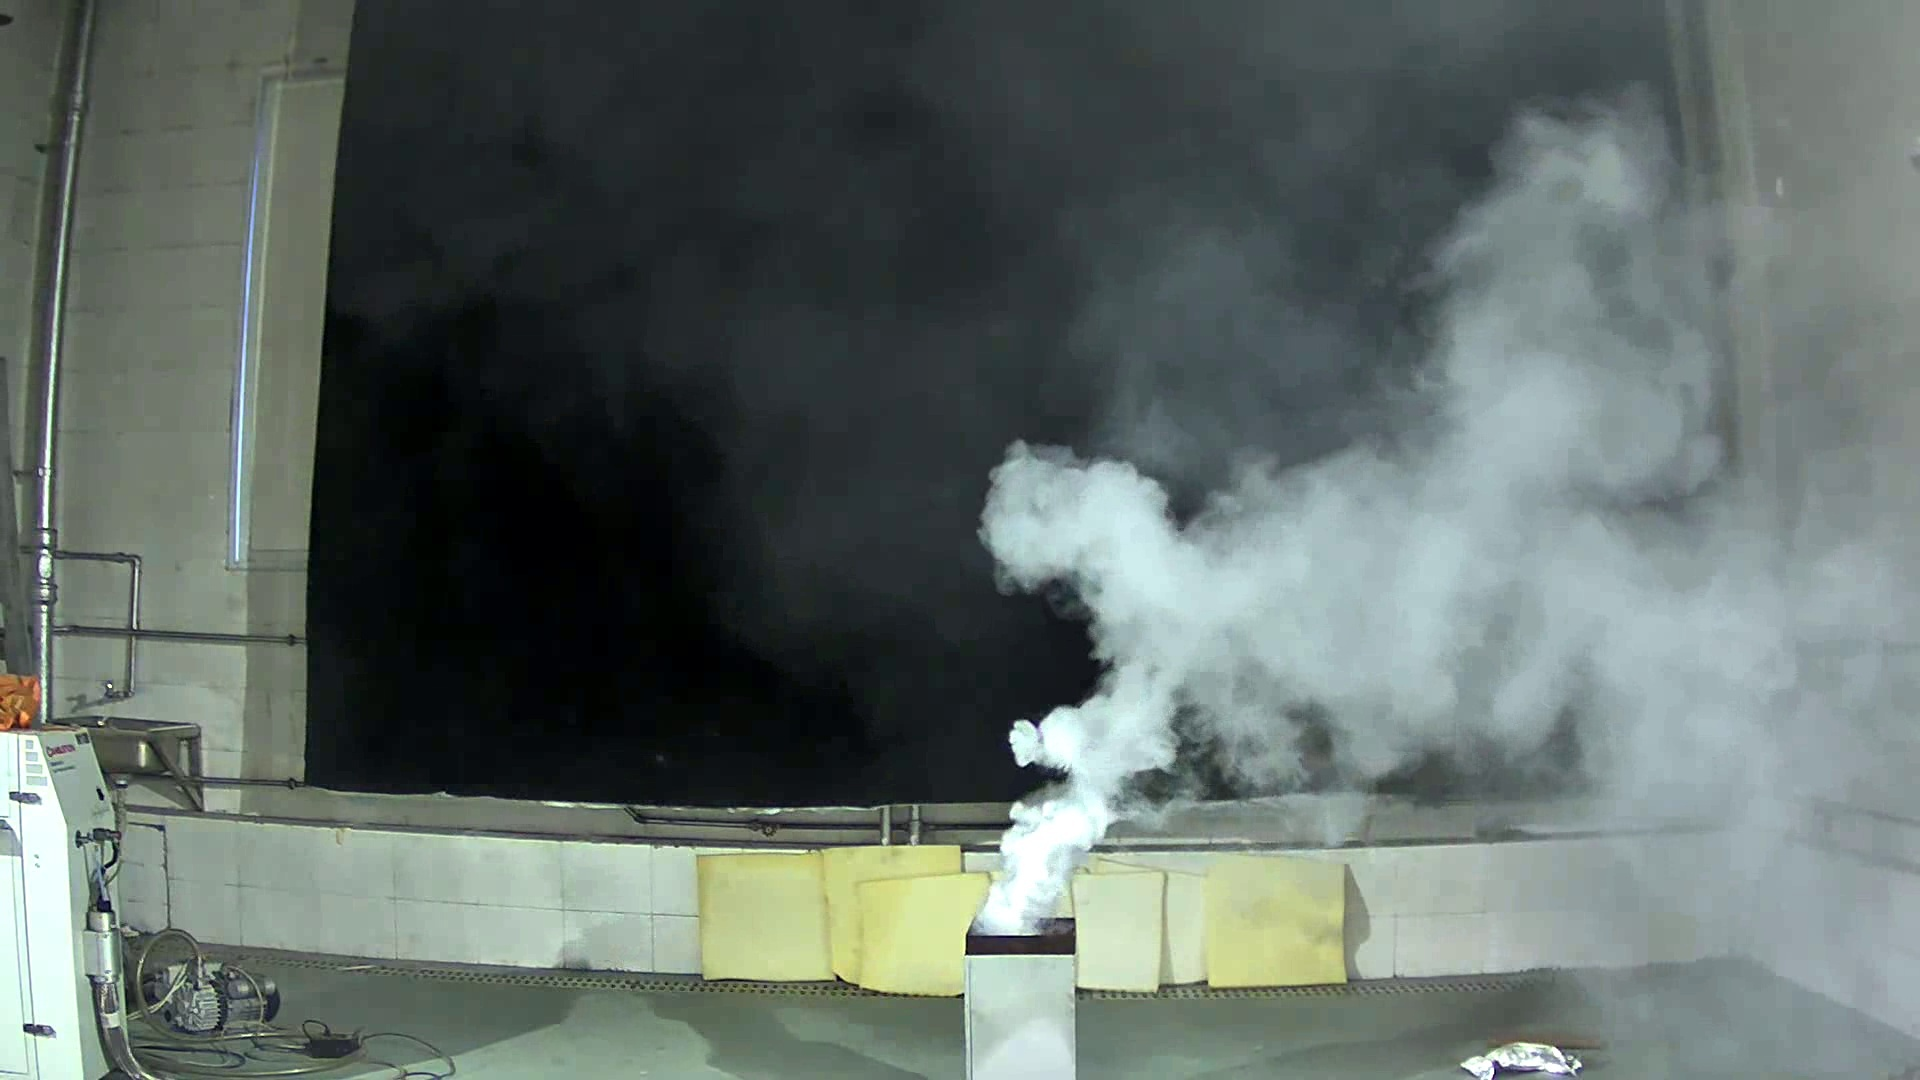smoke: (963, 82, 1873, 930)
